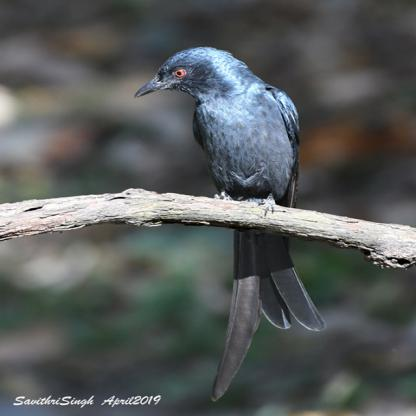Burung: (134, 44, 329, 401)
